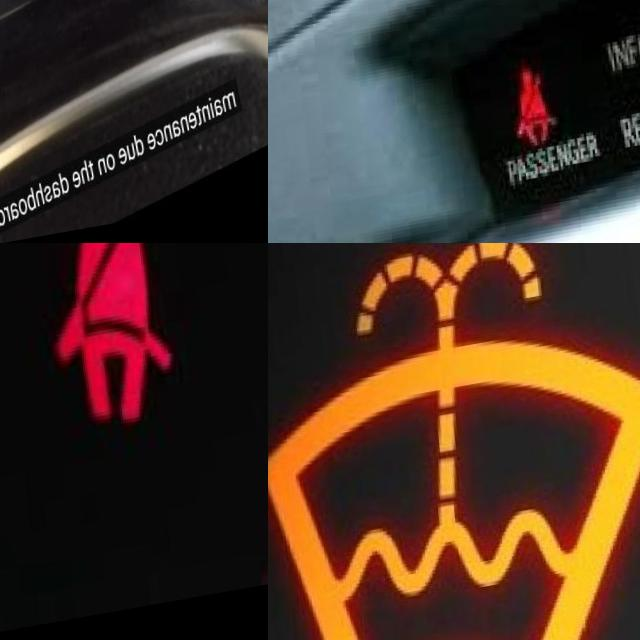Seat Belt: (35, 243, 167, 441), (502, 69, 549, 159)
Washer Fluid: (268, 243, 640, 640)
